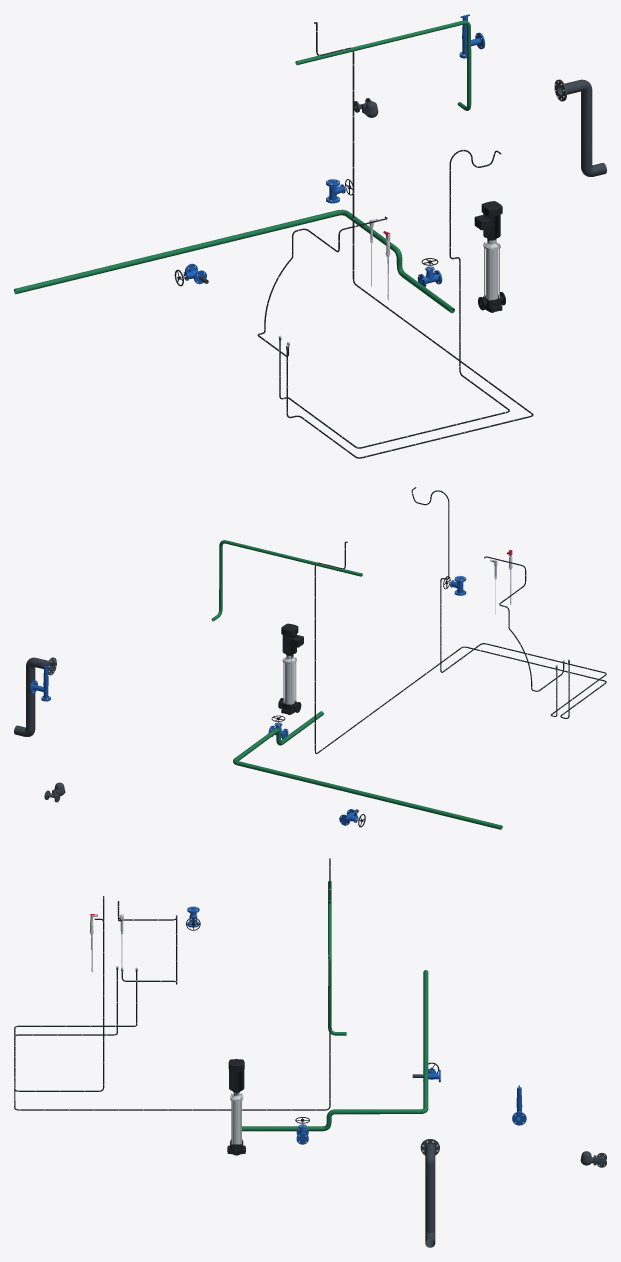
Rendered from s4000-3-BeNHPfOz.glb.
3 views of the same model, one above another, from view 1: azimuth 30°, elevation 25°; view 2: azimuth 150°, elevation 25°; view 3: azimuth 270°, elevation 25° (orthographic). The views are drawn at different scales.
Visible parts, largest first — view 1: suction_common / green, mod_direct_drive_cable / black, bdv_water_drain / dark, wiring_pressure_switch_2 / black, to_direct / green, pump_1 CAD solid 15, pump_1 CAD solid 2; view 2: suction_common / green, mod_direct_drive_cable / black, bdv_water_drain / dark, wiring_pressure_switch_2 / black, to_direct / green, pump_1 CAD solid 15; view 3: suction_common / green, bdv_water_drain / dark, mod_direct_drive_cable / black, wiring_pressure_switch_2 / black, to_direct / green.
Part boxes in pixels (x1,y1,x2,y2): suction_common / green: (14,209,454,313); mod_direct_drive_cable / black: (286,22,533,458); bdv_water_drain / dark: (554,79,606,176); wiring_pressure_switch_2 / black: (279,149,509,448); to_direct / green: (318,20,471,110); pump_1 CAD solid 15: (474,201,502,239); pump_1 CAD solid 2: (486,249,497,299); suction_common / green: (233,711,502,829); mod_direct_drive_cable / black: (314,541,606,753); bdv_water_drain / dark: (14,657,56,736); wiring_pressure_switch_2 / black: (411,487,606,716); to_direct / green: (211,540,344,621); pump_1 CAD solid 15: (281,623,303,654); suction_common / green: (242,970,428,1131); bdv_water_drain / dark: (420,1139,439,1247); mod_direct_drive_cable / black: (14,858,330,1110); wiring_pressure_switch_2 / black: (14,896,137,1091); to_direct / green: (328,890,346,1035).
Bounding box in the file's own units: 6.75 × 3.14 × 6.74.
